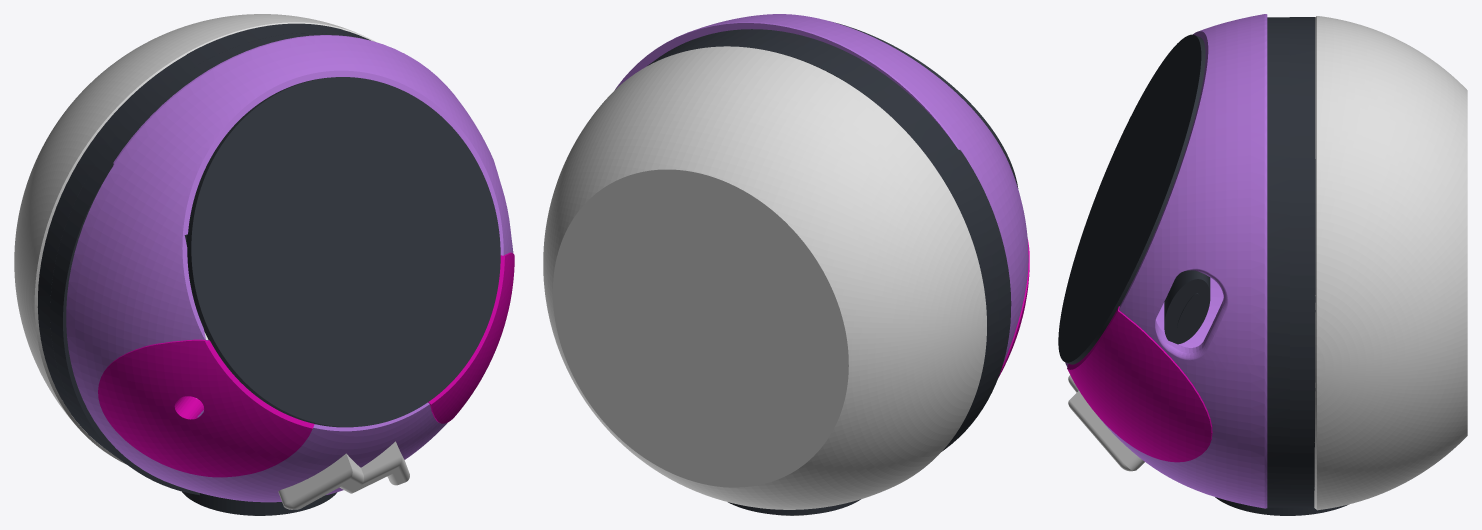
File: poketama-master-screen-battery.glb
3 renders of one model, left to right at view 1: azimuth 30°, elevation 25°; view 2: azimuth 150°, elevation 25°; view 3: azimuth 270°, elevation 25°, orthographic.
Bounding box in the file's own units: 1.93 × 2 × 1.58.
